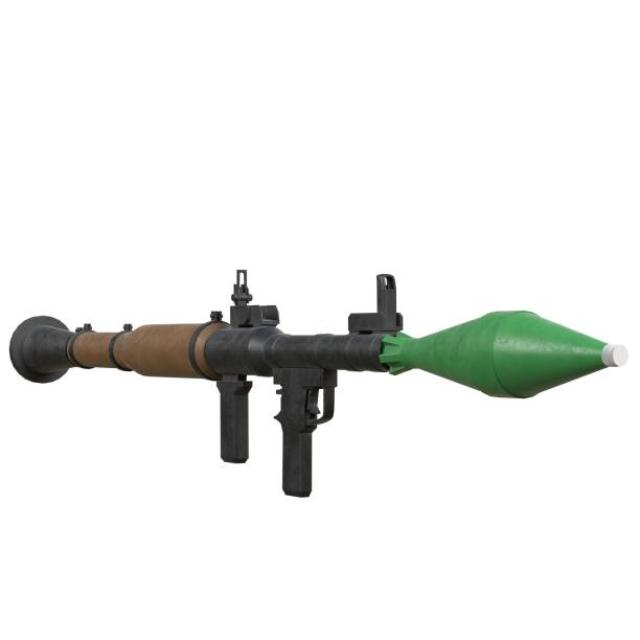bazooka: (1, 254, 632, 518)
